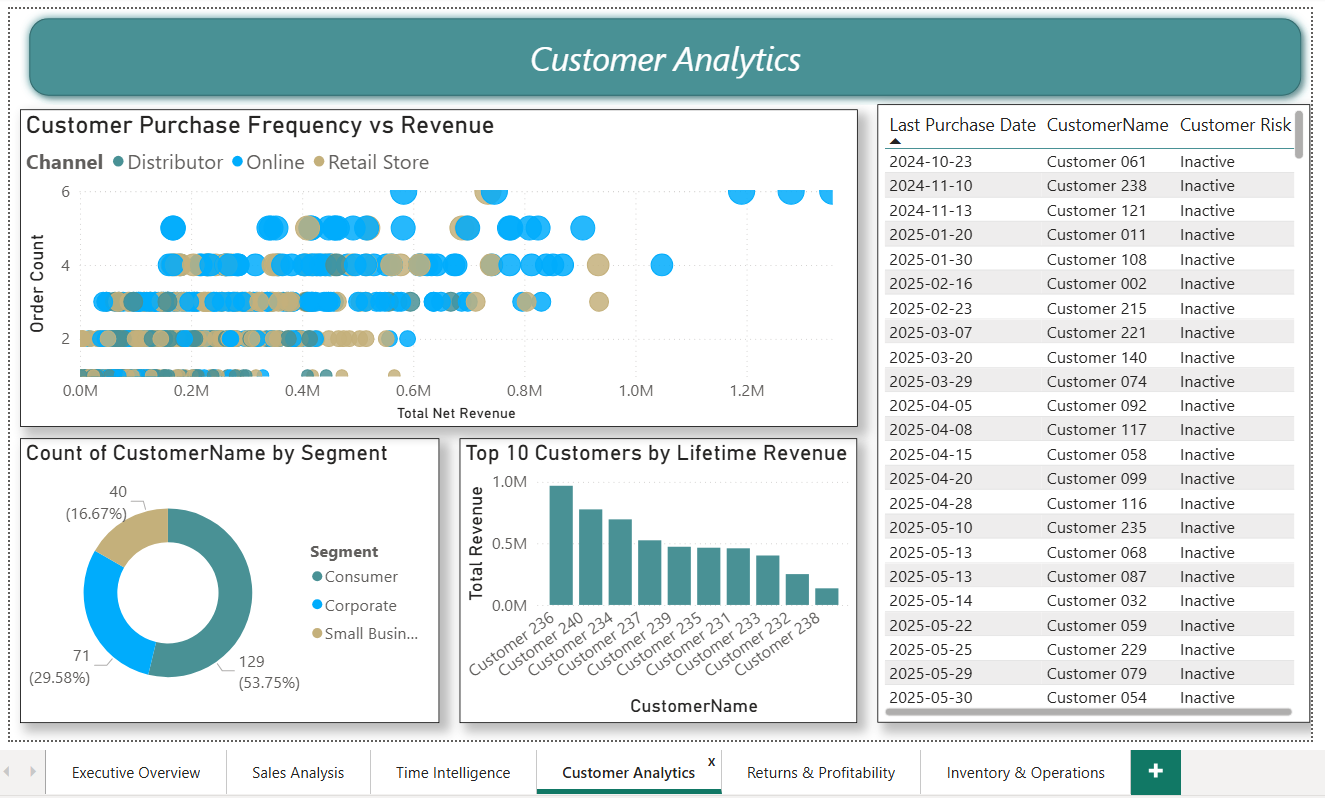

The page's visual inventory and layout, read from the dashboard file:
{"tool":"powerbi","page":{"name":"Customer Analytics","canvas":[1280,720],"ordinal":3},"visuals":[{"type":"shape","box":[10,0,1270,94.3],"z":0},{"type":"clusteredColumnChart","title":"Top 10 Customers by Lifetime Revenue","fields":{"Category":["Customers.CustomerName"],"Y":["Orders_Raw.Total Net Revenue"]},"box":[442.9,422.9,391.4,280],"z":1000},{"type":"donutChart","fields":{"Y":["CountNonNull(Customers.CustomerName)"],"Category":["Customers.Segment"]},"box":[10,422.9,412.9,280],"z":2000},{"type":"scatterChart","title":"Customer Purchase Frequency vs Revenue","fields":{"X":["Orders_Raw.Total Net Revenue"],"Size":["Count(Orders_Raw.Quantity)"],"Y":["Count(Orders_Raw.Quantity)"],"Category":["Customers.CustomerName"],"Series":["Orders_Raw.Channel"]},"box":[10,98.6,824.3,312.9],"z":3000},{"type":"tableEx","fields":{"Values":["Orders_Raw.Last Purchase Date","Customers.CustomerName","Orders_Raw.Customer Risk"]},"box":[854.3,94.3,425.7,608.6],"z":4000}]}

Visuals, with their boxes in screenshot pixels (x1, y1, x2, y2):
shape: box(10, 3, 1307, 100)
"Top 10 Customers by Lifetime Revenue" clusteredColumnChart: box(452, 435, 852, 721)
donutChart - CountNonNull(Customers.CustomerName) x Customers.Segment: box(10, 435, 432, 721)
"Customer Purchase Frequency vs Revenue" scatterChart: box(10, 104, 852, 424)
tableEx - Orders_Raw.Last Purchase Date x Customers.CustomerName: box(872, 100, 1307, 721)
